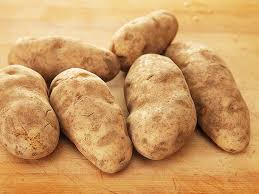potato: (172, 37, 252, 154), (50, 67, 133, 175), (123, 56, 197, 160), (2, 61, 60, 161), (13, 29, 119, 73), (109, 7, 182, 53)
